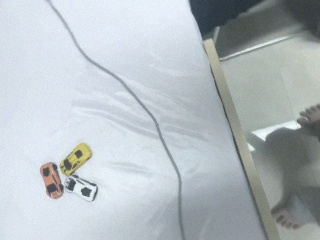toy_car: (59, 142, 93, 176), (64, 175, 100, 205), (40, 161, 64, 202)
